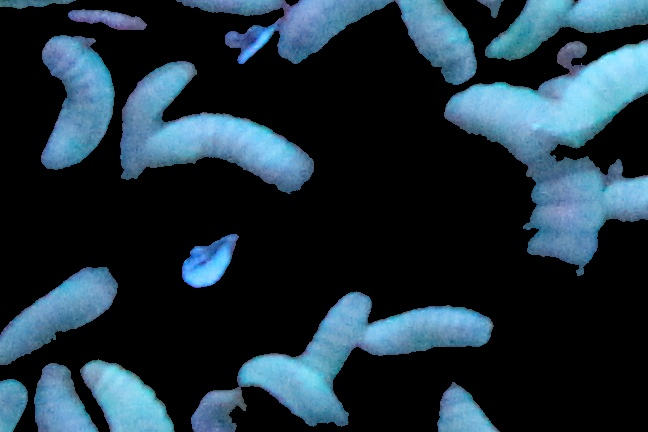larvae: (440, 75, 600, 295), (138, 108, 325, 193), (1, 266, 118, 368), (38, 31, 116, 173), (556, 45, 648, 153), (238, 352, 350, 432), (277, 1, 396, 64), (81, 359, 177, 432), (365, 305, 492, 360), (400, 1, 478, 84), (309, 291, 372, 379), (125, 61, 197, 131), (489, 1, 570, 63), (37, 360, 94, 432), (571, 1, 648, 35)
